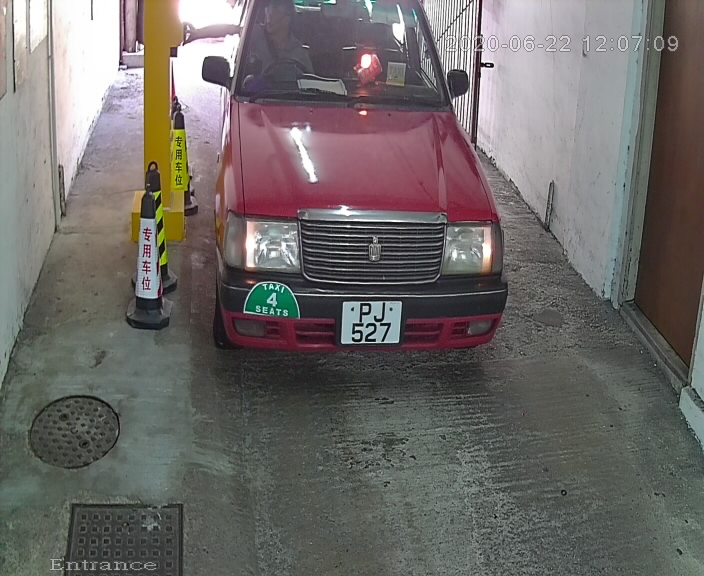taxi: (195, 1, 519, 394)
taxi_mark: (241, 268, 314, 329)
